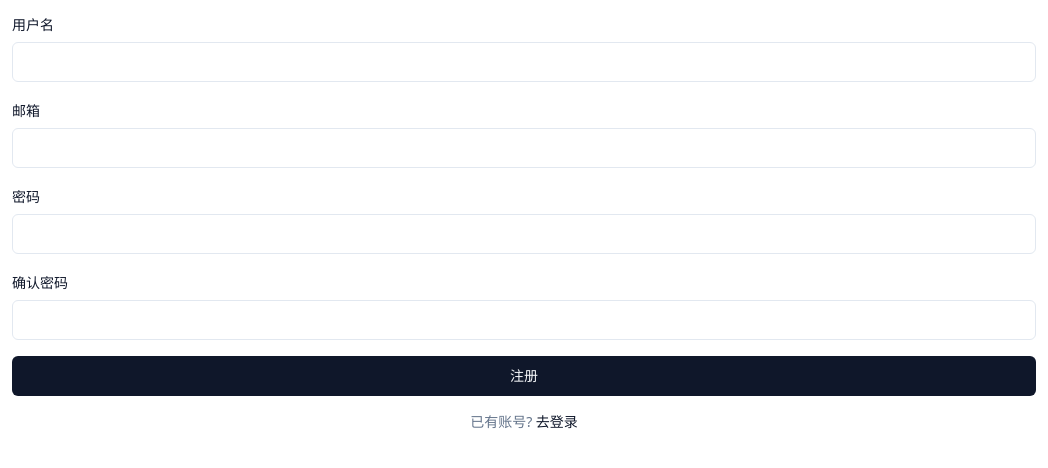
RegisterForm › rejects weak password client-side (missing letter or digit)
Type "alice" into the field labelled "用户名" at (524, 62), box [12, 42, 1036, 82]
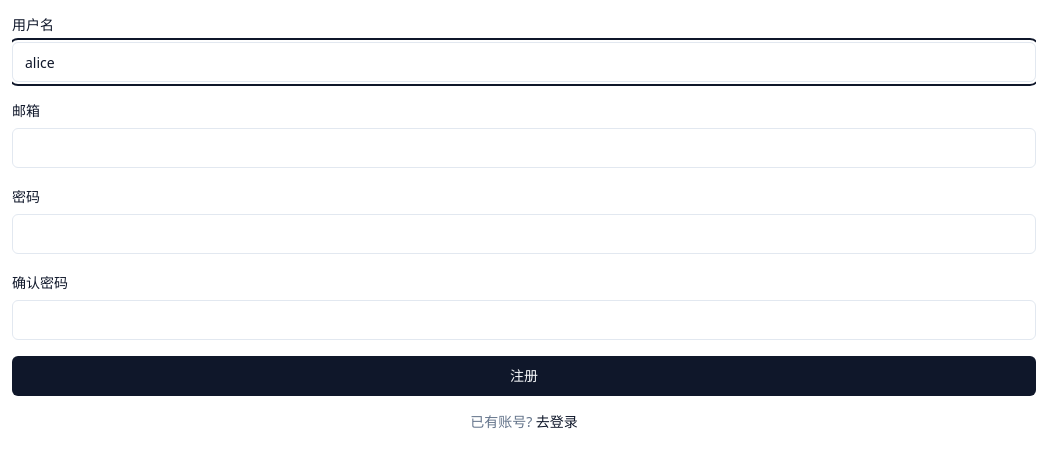
Type "alice@x.com" into the field labelled "邮箱" at (524, 148), box [12, 128, 1036, 168]
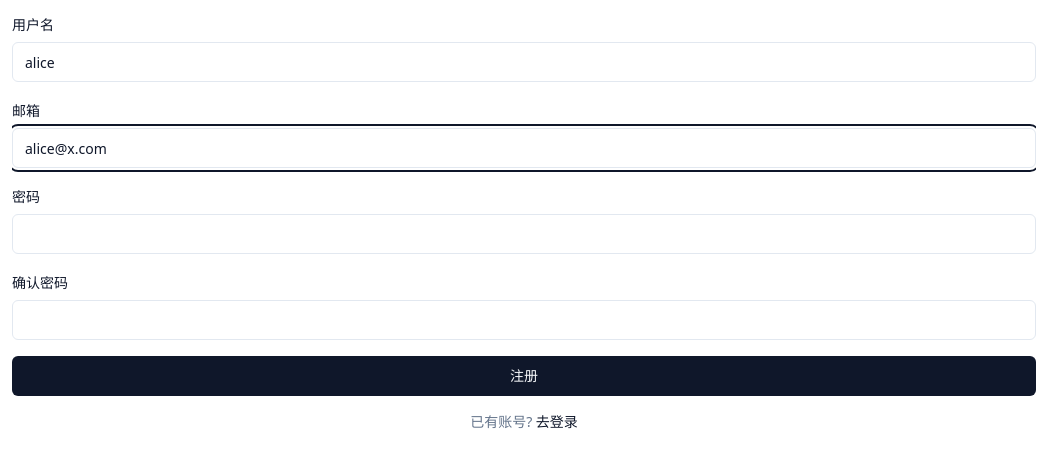
Type "nodigits" into the password field labelled "密码" at (524, 234), box [12, 214, 1036, 254]
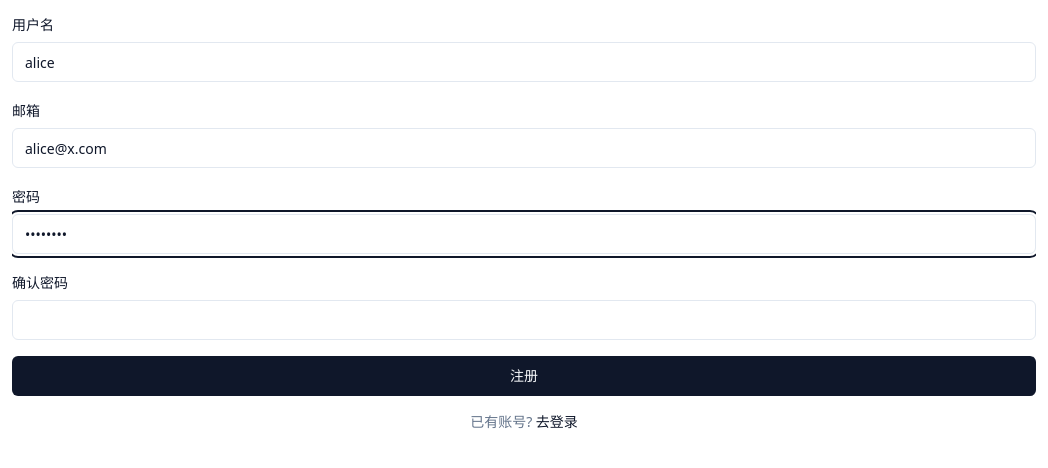
Type "nodigits" into the password field labelled "确认密码" at (524, 320), box [12, 300, 1036, 340]
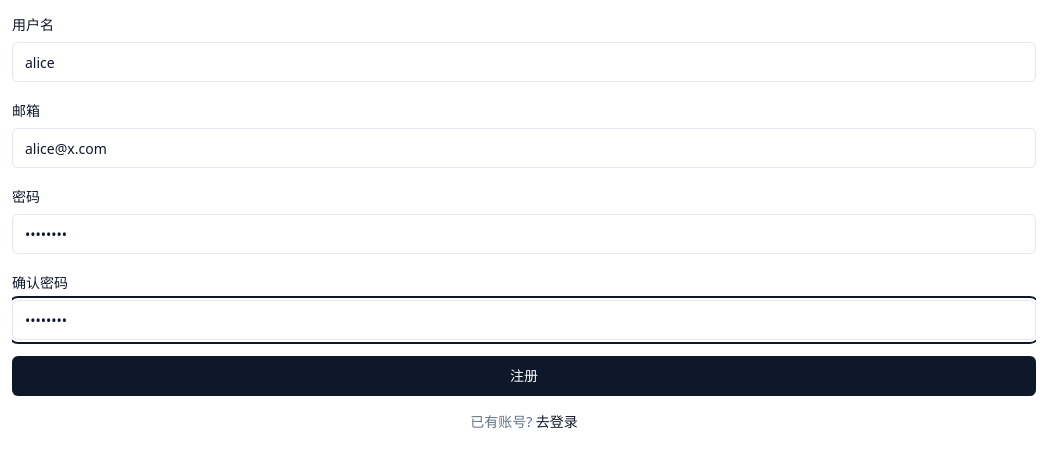
Click the button "注册" at (524, 376), box [12, 356, 1036, 396]
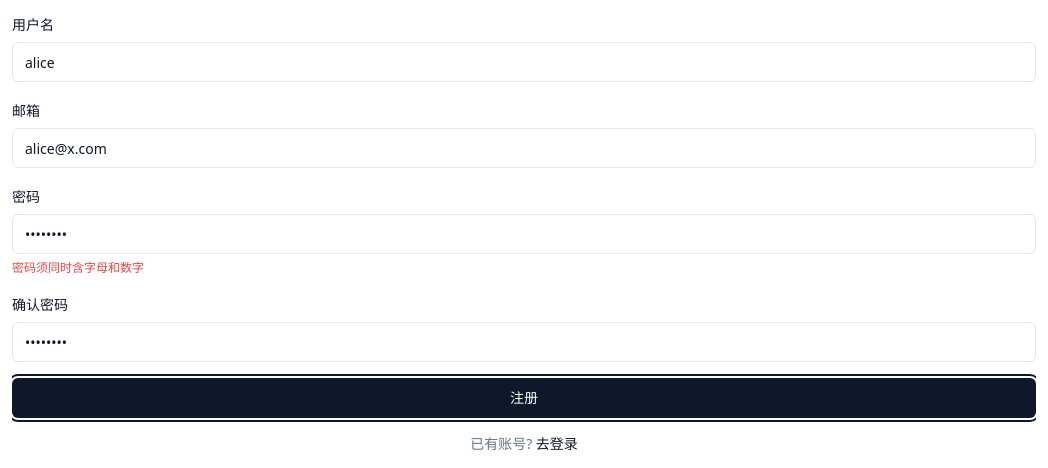
Check: the text "密码须同时含字母和数字" is shown, box [12, 259, 144, 276]
